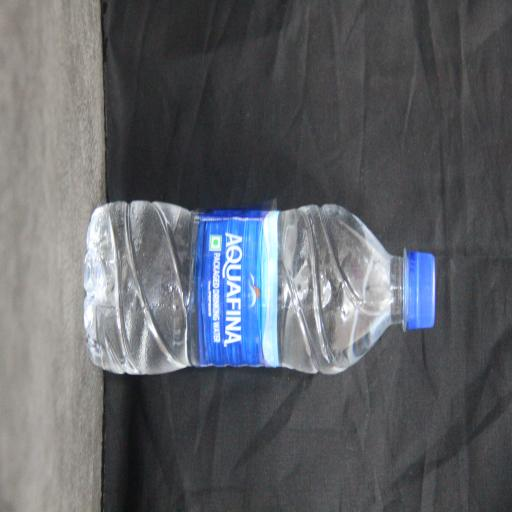Aquafina: (136, 115, 249, 512)
